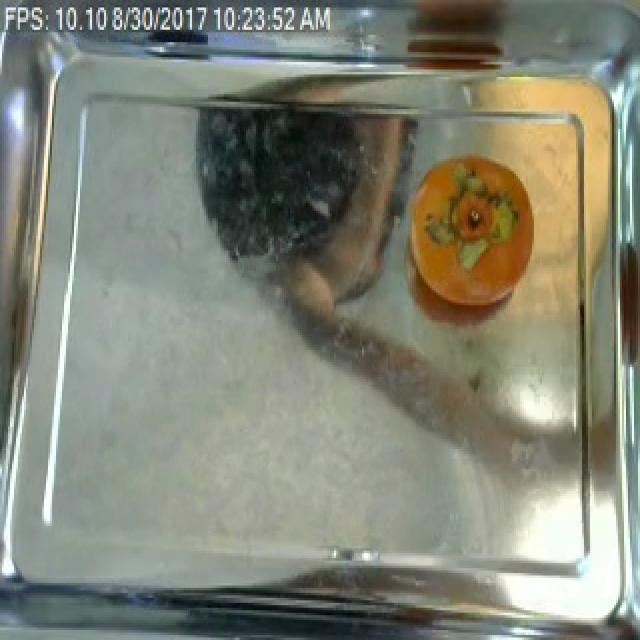Fruit: (402, 144, 534, 312)
